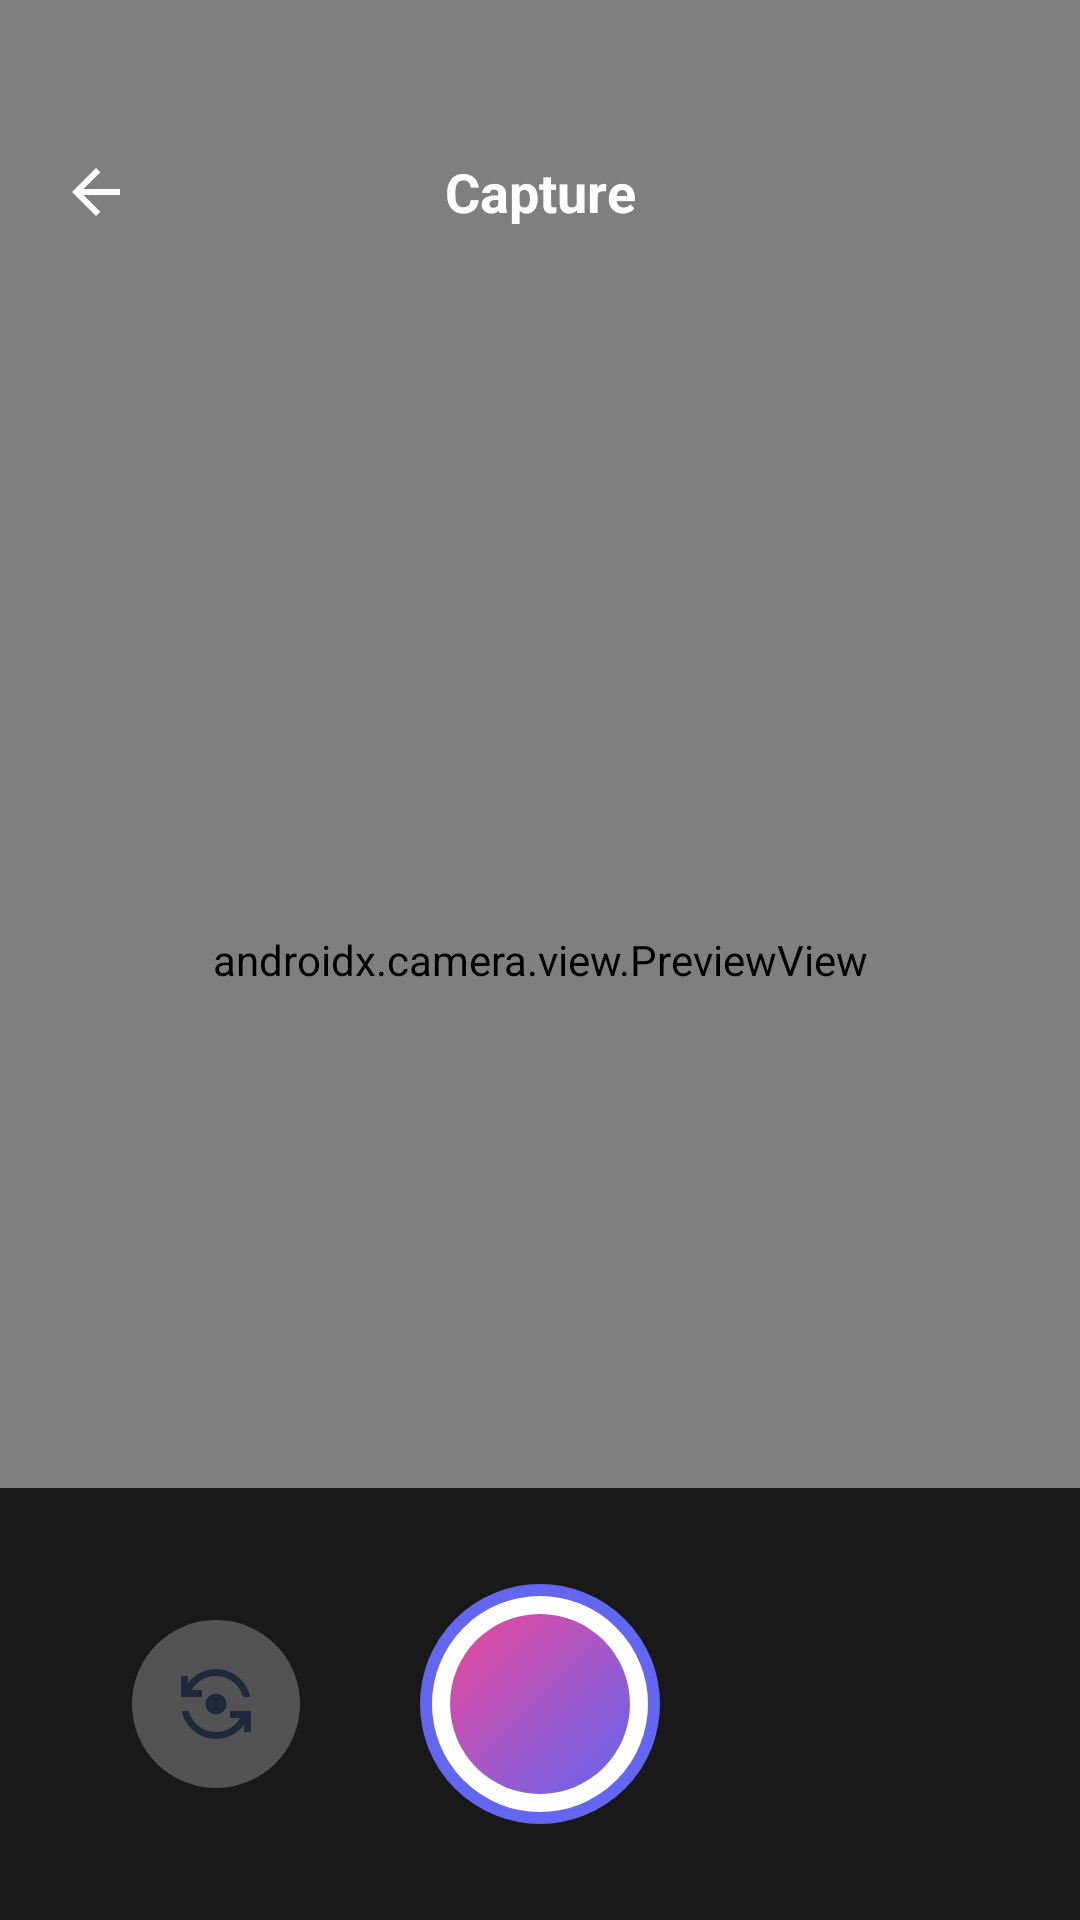

Where icons sit on this 1080px x 1920px app screen, as {"x1": x1, "y1": y1, "x2": x2, "y2": y2}:
arrow back: {"x1": 72, "y1": 168, "x2": 120, "y2": 216}
flip camera: {"x1": 181, "y1": 1669, "x2": 251, "y2": 1739}
